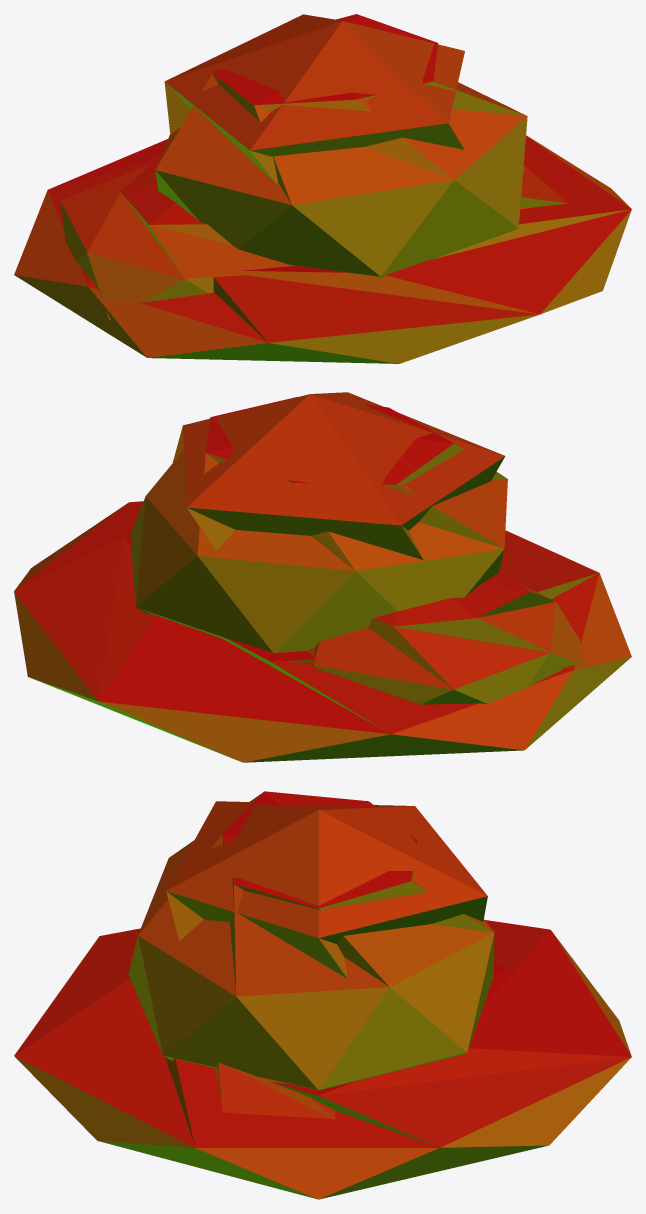
File: stone.glb
The picture shows the model from 3 angles, top to bottom: view 1: azimuth 30°, elevation 25°; view 2: azimuth 150°, elevation 25°; view 3: azimuth 270°, elevation 25°; orthographic projection. The views are drawn at different scales.
Parts seen in each view (by area): view 1: v1, v0, v2, v3; view 2: v1, v0, v2, v3; view 3: v1, v0, v2, v3.
Part boxes in pixels (left/top/right/bottom): v1: left=14, top=135, right=631, bottom=363; v0: left=155, top=14, right=527, bottom=277; v2: left=164, top=14, right=464, bottom=183; v3: left=60, top=163, right=568, bottom=319; v1: left=14, top=501, right=631, bottom=762; v0: left=130, top=397, right=507, bottom=652; v2: left=172, top=392, right=505, bottom=559; v3: left=307, top=570, right=598, bottom=704; v1: left=14, top=920, right=631, bottom=1199; v0: left=128, top=791, right=494, bottom=1090; v2: left=166, top=801, right=487, bottom=1068; v3: left=214, top=1063, right=335, bottom=1119.
Bounding box in the file's own units: 21.98 × 10.51 × 20.5.
